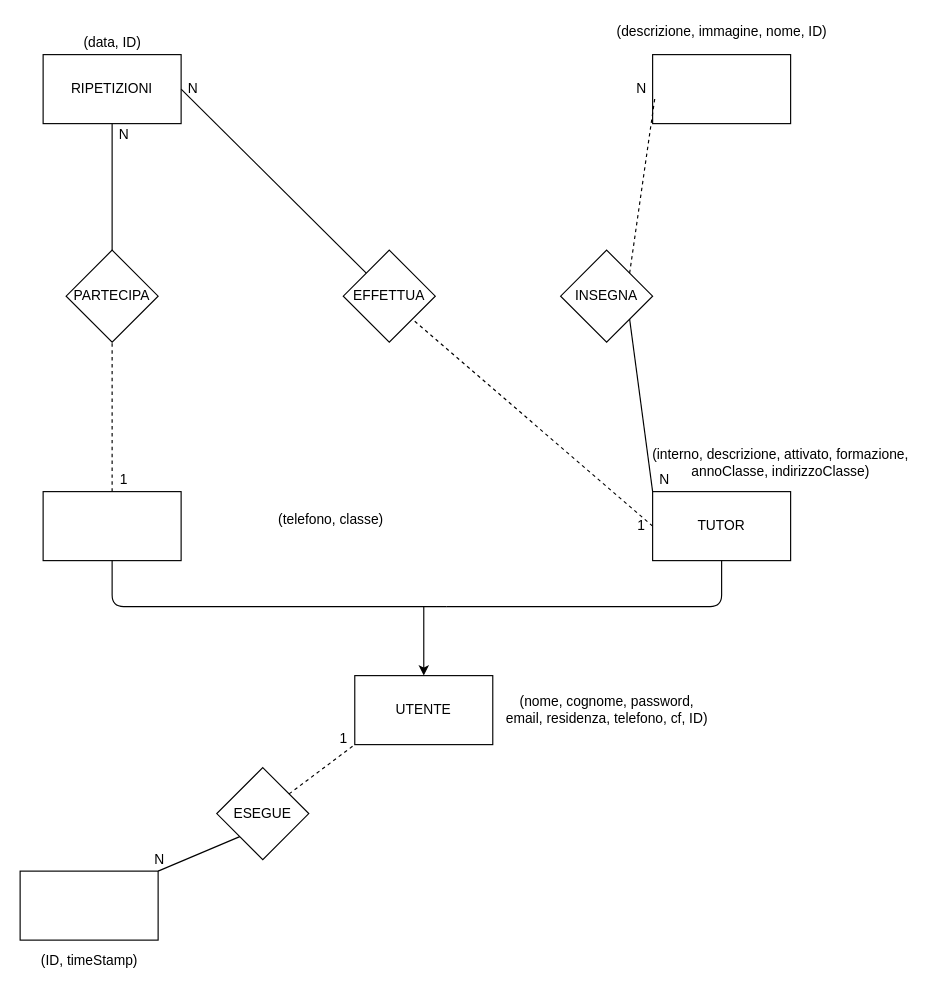
The diagram is 938 pixels wide and 991 high, and some of its shapes have lost their labels. Each missing label, with the box of its shape:
ACCESSO: (19, 870, 158, 940)
MATERIE: (651, 53, 791, 124)
STUDENTI: (42, 490, 181, 561)
